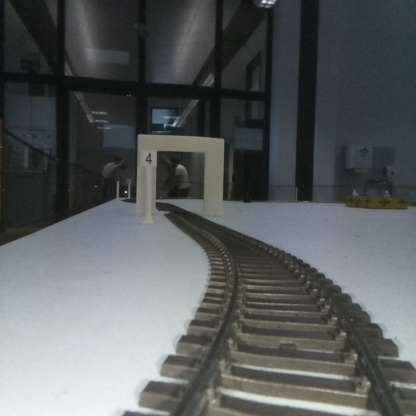white-info-4: (141, 149, 156, 222)
